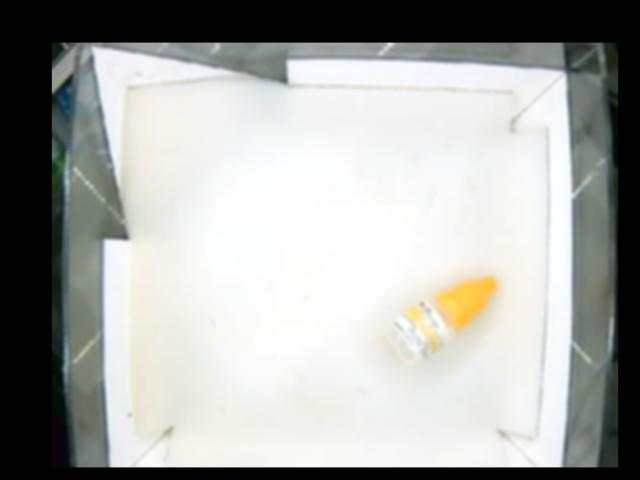Bottle: (388, 275, 500, 362)
